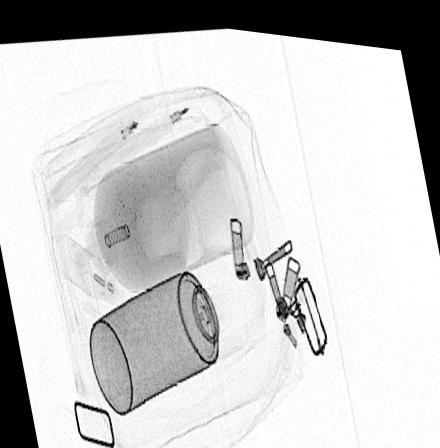Sprayer: (88, 245, 246, 412)
